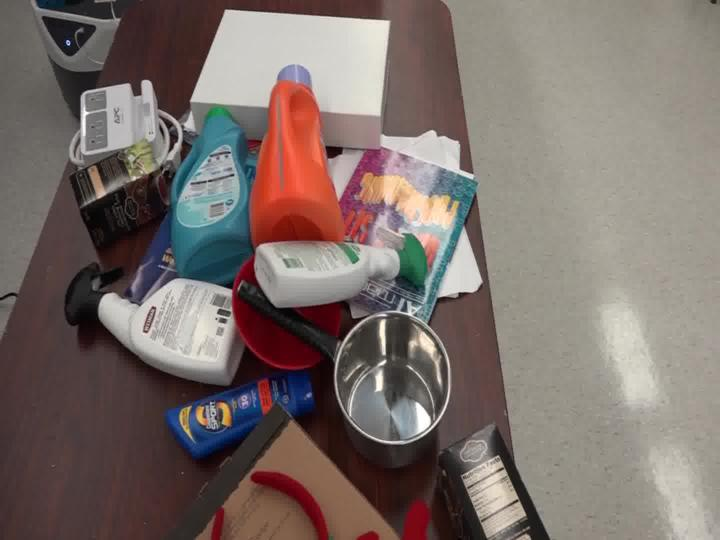tide: (240, 46, 370, 260)
